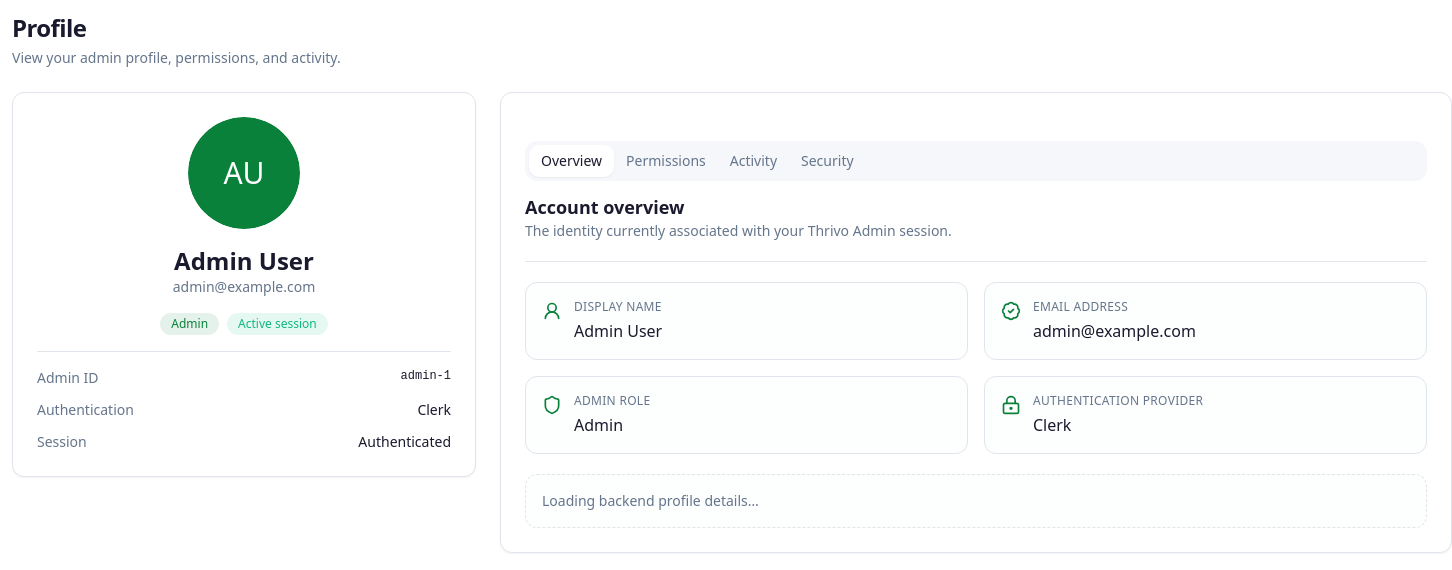
AdminProfileSection › shows a loading state while activity is being fetched
This screenshot has width=1452, height=570.
Press the mouse on the tab "Activity" at (753, 161), box [718,145,789,177]
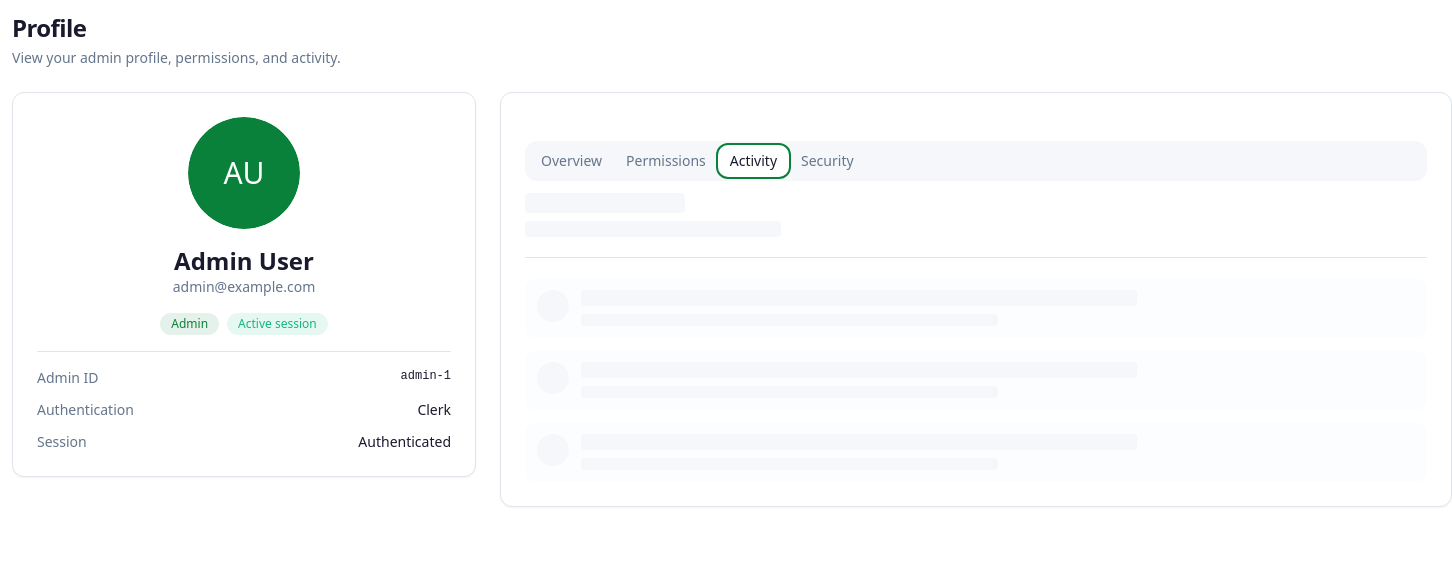
Expected: the element named "Loading activity" is shown, [525,193,1427,482]
